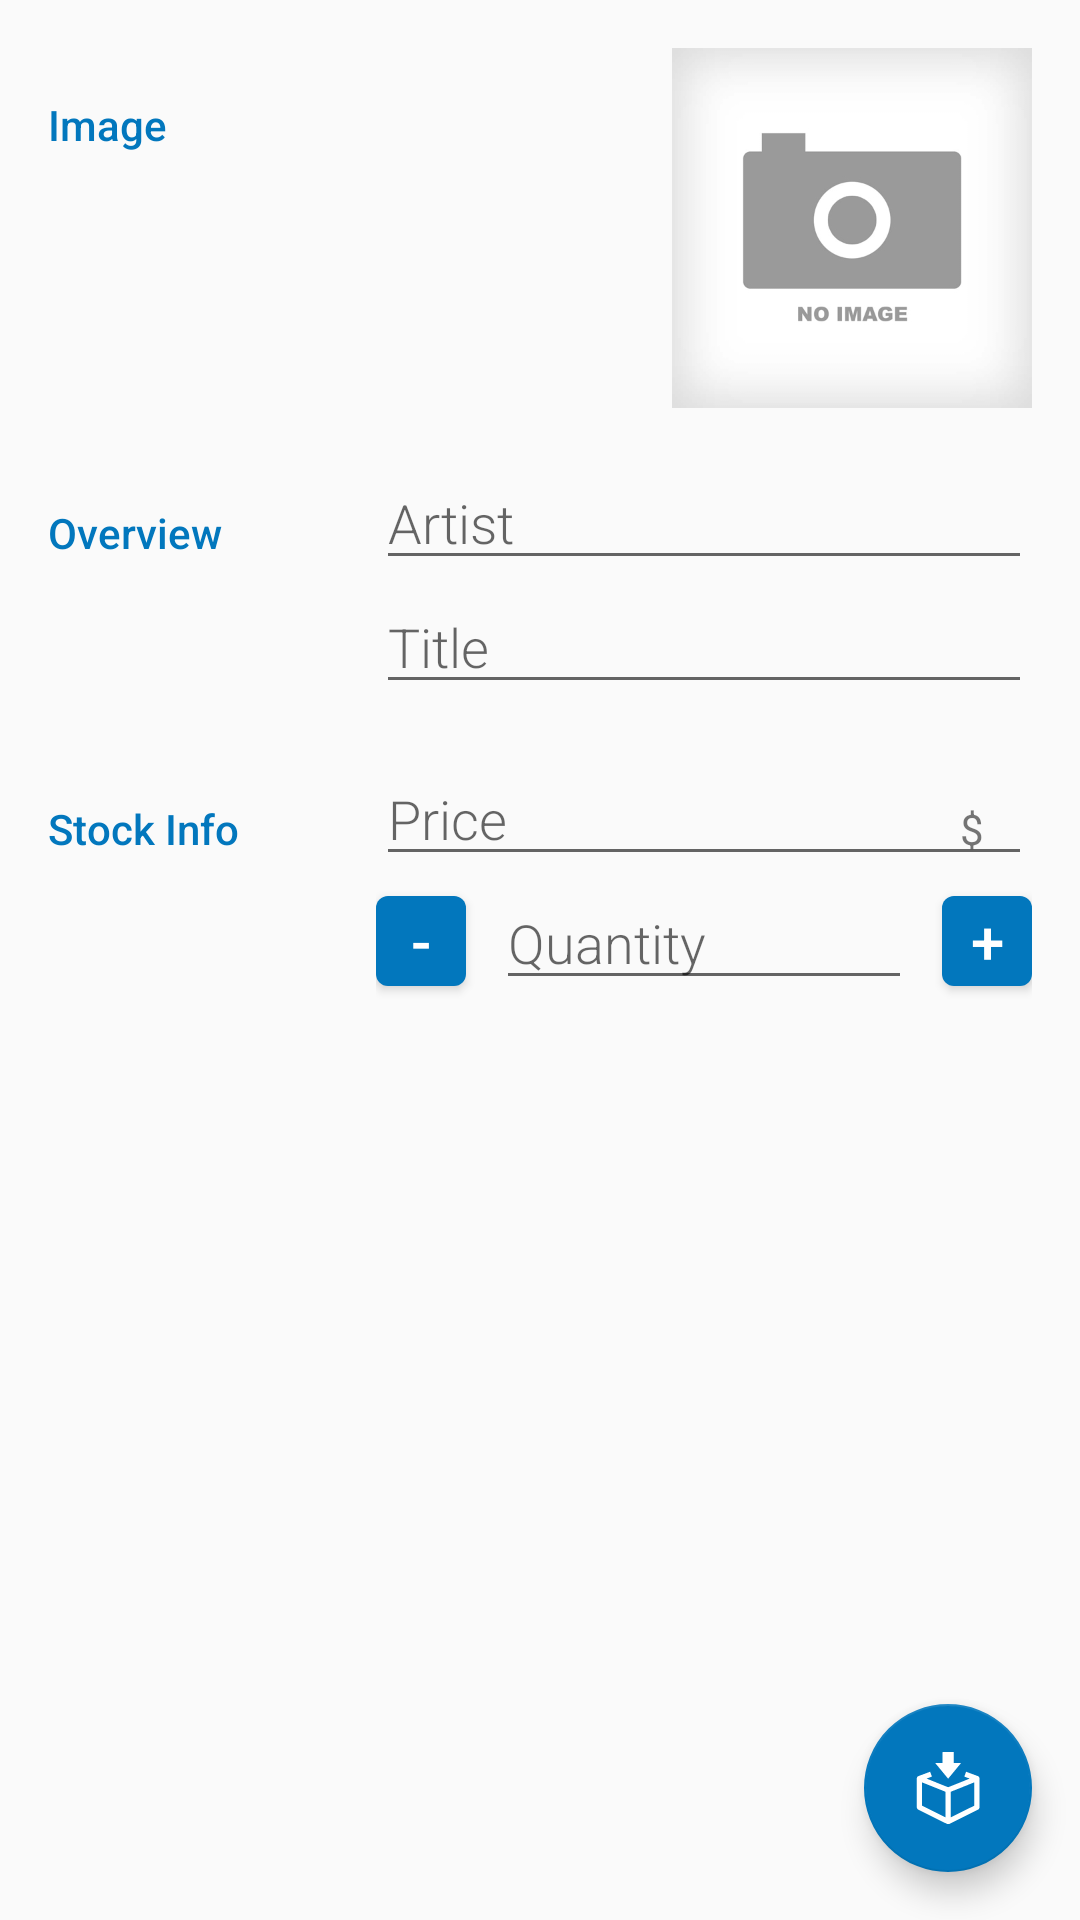

Locate icon controls on the screen. Image size 1080*1920, boxes as (x1, y1, x2, y2).
order: (864, 1704, 1032, 1872)
